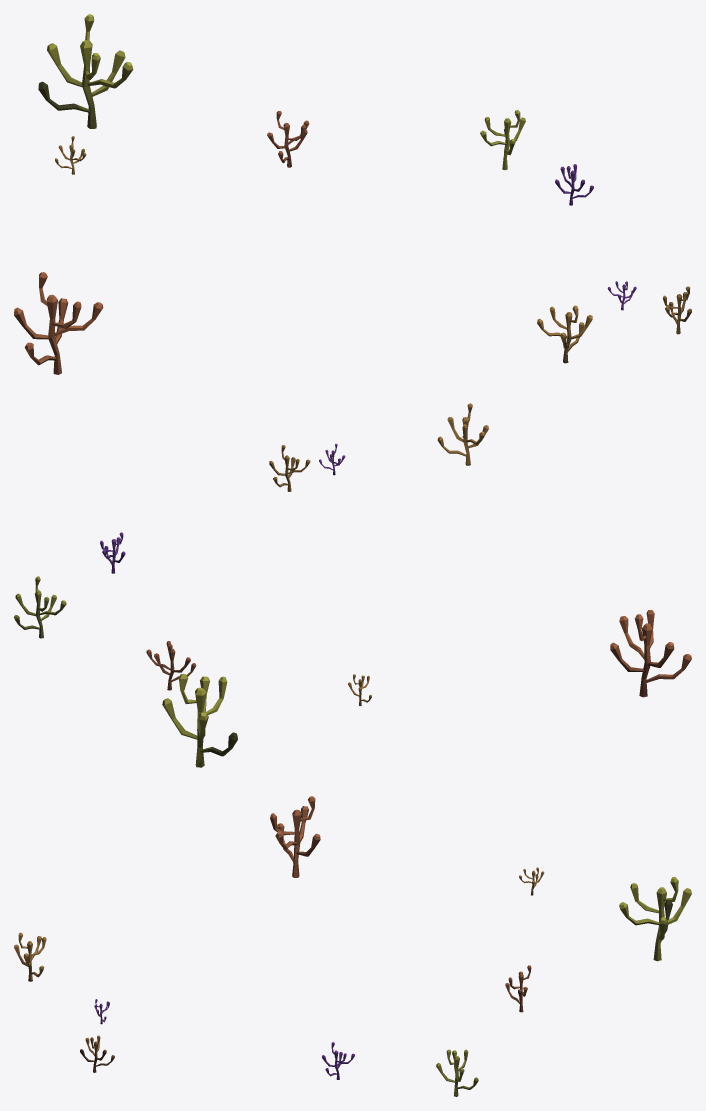
File: Plant_03.FBX
The picture shows the model from 3 angles, top to bottom: view 1: azimuth 30°, elevation 25°; view 2: azimuth 150°, elevation 25°; view 3: azimuth 270°, elevation 25°; orthographic projection. The views are drawn at different scales.
Visible parts, largest first — view 1: Plant_03; view 2: Plant_03; view 3: Plant_03.
Part boxes in pixels (<box>): Plant_03: <box>14,14,691,374</box>; Plant_03: <box>14,403,691,767</box>; Plant_03: <box>14,796,691,1096</box>.
Size of the model in its own units: 23.62 by 4.69 by 27.58.
